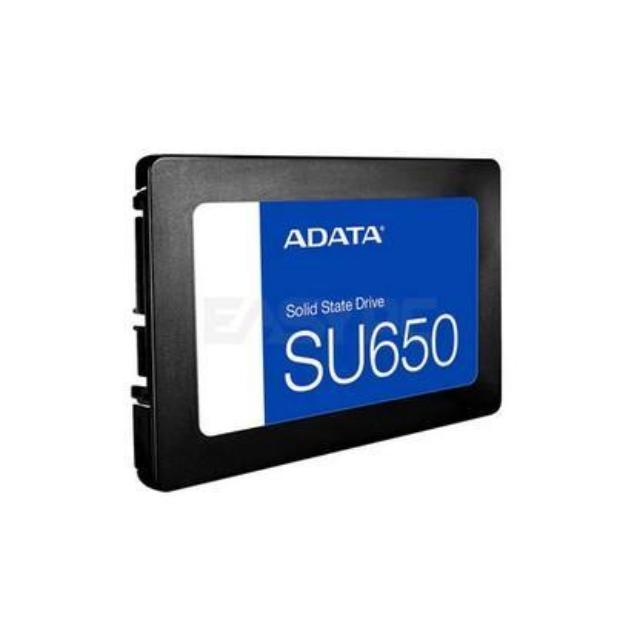DISK: (133, 145, 504, 490)
